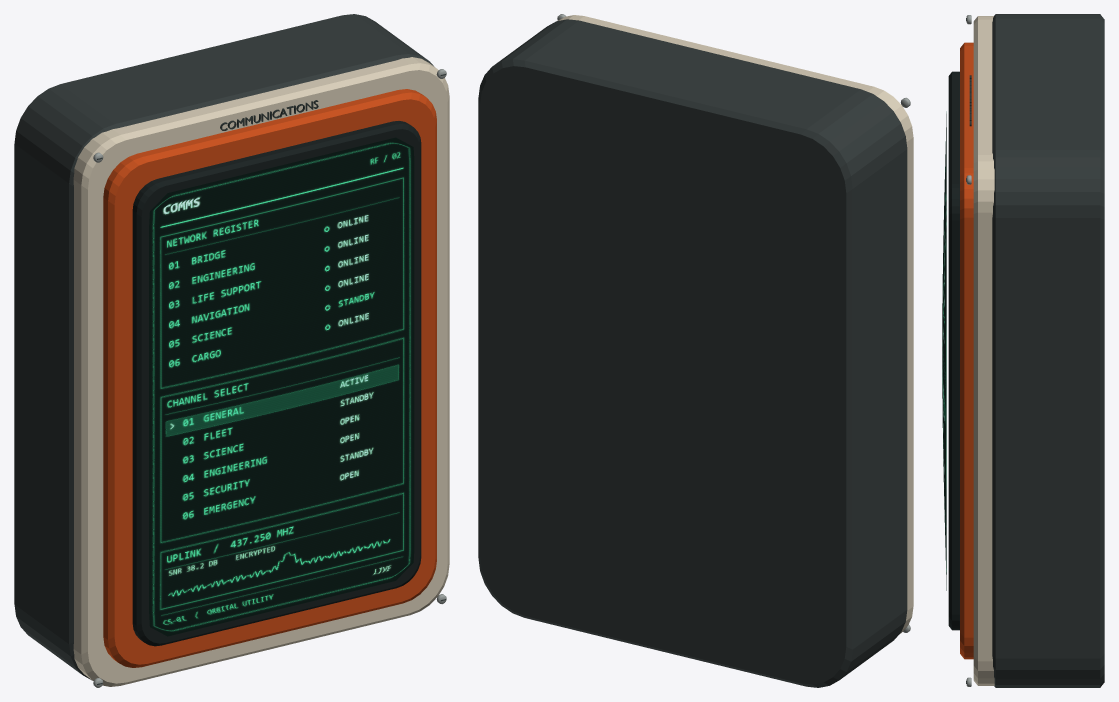
File: Screen_COMMUNICATIONS.glb
3 views of the same model, side by side, from view 1: azimuth 30°, elevation 25°; view 2: azimuth 150°, elevation 25°; view 3: azimuth 270°, elevation 25° (orthographic). The views are drawn at different scales.
Parts seen in each view (by area): view 1: SCREEN_COMMUNICATIONS.004, COMMUNICATIONS_Body.004, COMMUNICATIONS_Enamel.004, COMMUNICATIONS_SafetyOrange.004, COMMUNICATIONS_RubberSeal.004; view 2: COMMUNICATIONS_Body.004, COMMUNICATIONS_Enamel.004; view 3: COMMUNICATIONS_Body.004, COMMUNICATIONS_Enamel.004, COMMUNICATIONS_SafetyOrange.004, COMMUNICATIONS_RubberSeal.004, SCREEN_COMMUNICATIONS.004.
Boxes of the visible parts, x1=… form: SCREEN_COMMUNICATIONS.004: x1=149, y1=137, x2=414, y2=636; COMMUNICATIONS_Body.004: x1=14, y1=14, x2=433, y2=680; COMMUNICATIONS_Enamel.004: x1=73, y1=57, x2=449, y2=686; COMMUNICATIONS_SafetyOrange.004: x1=103, y1=89, x2=436, y2=667; COMMUNICATIONS_RubberSeal.004: x1=132, y1=121, x2=421, y2=646; COMMUNICATIONS_Body.004: x1=478, y1=19, x2=907, y2=687; COMMUNICATIONS_Enamel.004: x1=558, y1=15, x2=913, y2=633; COMMUNICATIONS_Body.004: x1=992, y1=14, x2=1104, y2=687; COMMUNICATIONS_Enamel.004: x1=973, y1=16, x2=994, y2=685; COMMUNICATIONS_SafetyOrange.004: x1=960, y1=42, x2=973, y2=659; COMMUNICATIONS_RubberSeal.004: x1=948, y1=71, x2=959, y2=630; SCREEN_COMMUNICATIONS.004: x1=942, y1=111, x2=946, y2=590.
Bounding box in the file's own units: 0.364 × 0.518 × 0.143.
7 materials, 1 textured.
